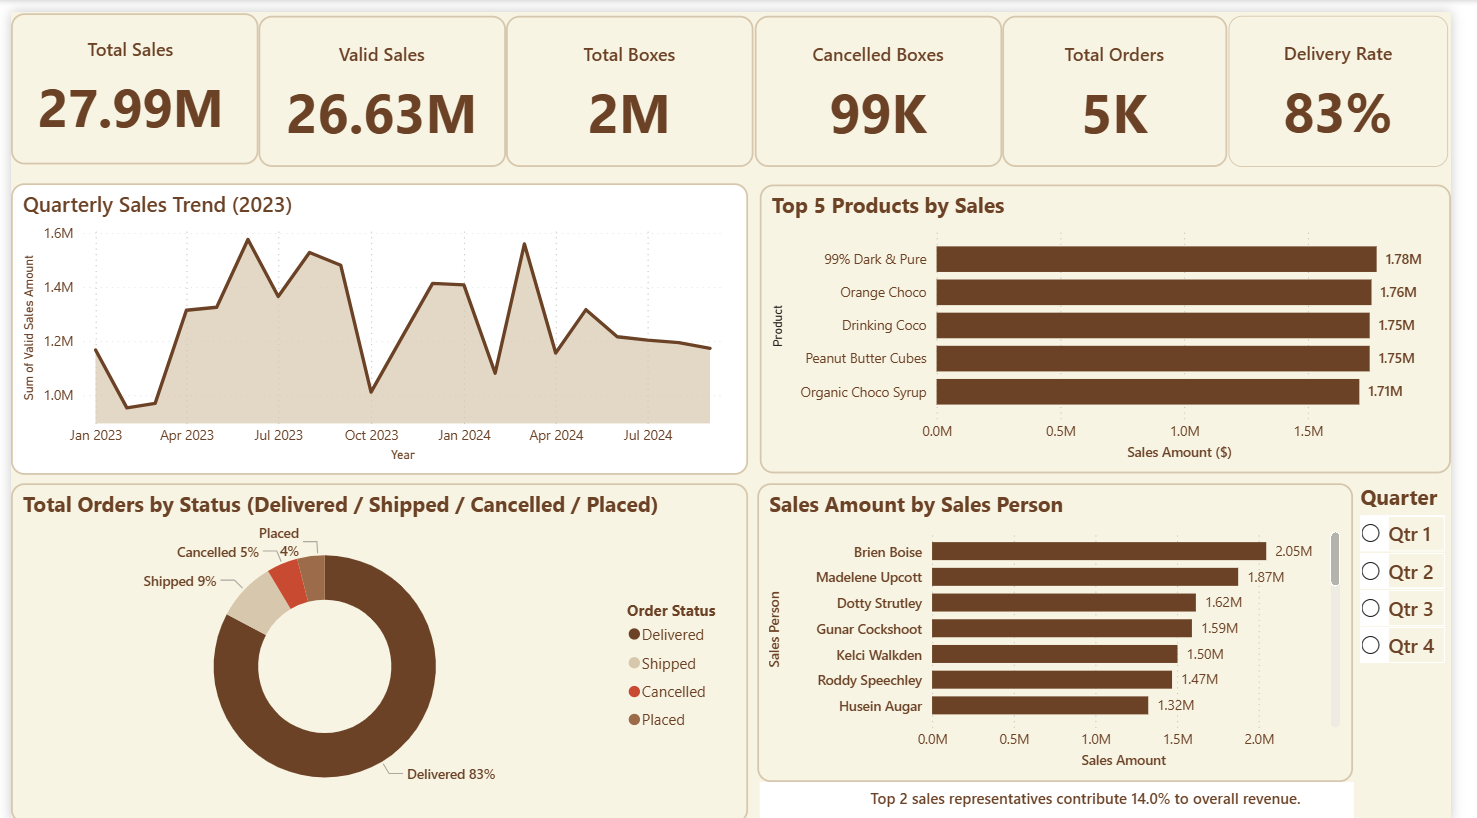

This screenshot's page, from the dashboard's own definition file:
{"tool":"powerbi","page":{"name":"Page 1","canvas":[1280,720],"ordinal":0},"visuals":[{"type":"cardVisual","fields":{"Data":["Table1.Amount"]},"box":[0,1.5,220,134],"z":0},{"type":"cardVisual","fields":{"Data":["Table1.Valid Sales Amount"]},"box":[220,3,220,134.7],"z":1000},{"type":"cardVisual","fields":{"Data":["Table1.Boxes"]},"box":[440,3,220,134.7],"z":2000},{"type":"cardVisual","fields":{"Data":["Table1.Total Orders"]},"box":[881.6,3,200,134.7],"z":3000},{"type":"lineChart","title":"Quarterly Sales Trend (2023)","fields":{"Category":["Table1.Date.Variation.Date Hierarchy.Year","Table1.Date.Variation.Date Hierarchy.Month"],"Y":["Table1.Valid Sales Amount"]},"box":[6,152.7,640,258.9],"z":4000},{"type":"donutChart","title":"Total Orders by Status (Delivered / Shipped / Cancelled / Placed)","fields":{"Y":["Table1.Total Orders"],"Category":["Table1.Order Status"]},"box":[0,418.8,655,302],"z":5000},{"type":"listSlicer","fields":{"Values":["Table1.Date.Variation.Date Hierarchy.Quarter"]},"box":[1194.4,152.7,85.3,479],"z":6000},{"type":"barChart","title":"Top 5 Products by Sales ","fields":{"Category":["Table1.Product"],"Y":["Table1.Valid Sales Amount"]},"box":[651.1,155.7,543,257],"z":7000},{"type":"cardVisual","fields":{"Data":["Table1.Cancelled_Boxes"]},"box":[661.6,3,220,134.7],"z":8000},{"type":"clusteredBarChart","fields":{"Y":["Table1.Valid Sales Amount"],"Category":["Table1.Sales Person"]},"box":[664.7,418.8,530,265.6],"z":9000},{"type":"textbox","box":[665.3,684,528,36],"z":10000},{"type":"cardVisual","fields":{"Data":["Table1.Delivered Orders %"]},"box":[1082.1,3,195,134.7],"z":11000}]}

Visuals, with their boxes in screenshot pixels (x1, y1, x2, y2), scaled from the page's 1280x720 canvas onto the 1477x818 screenshot:
cardVisual - Table1.Amount: [x1=0, y1=2, x2=254, y2=154]
cardVisual - Table1.Valid Sales Amount: [x1=254, y1=3, x2=508, y2=156]
cardVisual - Table1.Boxes: [x1=508, y1=3, x2=762, y2=156]
cardVisual - Table1.Total Orders: [x1=1017, y1=3, x2=1248, y2=156]
"Quarterly Sales Trend (2023)" lineChart: [x1=7, y1=173, x2=745, y2=468]
"Total Orders by Status (Delivered / Shipped / Cancelled / Placed)" donutChart: [x1=0, y1=476, x2=756, y2=817]
listSlicer - Table1.Date.Variation.Date Hierarchy.Quarter: [x1=1378, y1=173, x2=1476, y2=718]
"Top 5 Products by Sales " barChart: [x1=751, y1=177, x2=1378, y2=469]
cardVisual - Table1.Cancelled_Boxes: [x1=763, y1=3, x2=1017, y2=156]
clusteredBarChart - Table1.Valid Sales Amount x Table1.Sales Person: [x1=767, y1=476, x2=1379, y2=778]
textbox: [x1=768, y1=777, x2=1377, y2=817]
cardVisual - Table1.Delivered Orders %: [x1=1249, y1=3, x2=1474, y2=156]
